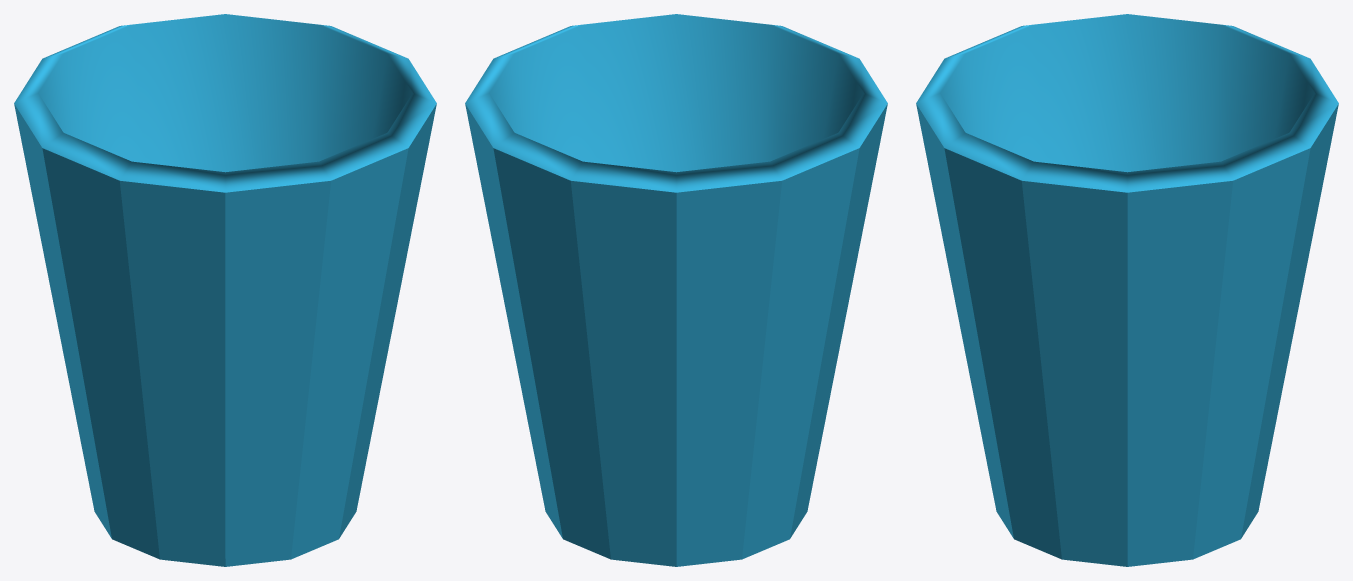
File: Box_Middle.fbx
The picture shows the model from 3 angles, left to right: view 1: azimuth 30°, elevation 25°; view 2: azimuth 150°, elevation 25°; view 3: azimuth 270°, elevation 25°; orthographic projection.
Visible parts, largest first — view 1: polySurface2; view 2: polySurface2; view 3: polySurface2.
Part boxes in pixels (x1,y1,x2,y2): polySurface2: (14,14,436,566); polySurface2: (465,14,887,566); polySurface2: (916,14,1338,566).
Bounding box in the file's own units: 2.5 × 2.73 × 2.5.
